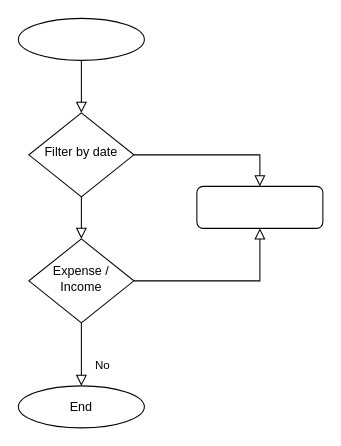
Some shapes in this 341 by 446 pixel diagram are drawn without their labels. The centre of each missing label's shape, as x and y in pixels:
"Reports View" goes at pixel 80 38.
"show categories / expense details" goes at pixel 259 206.
